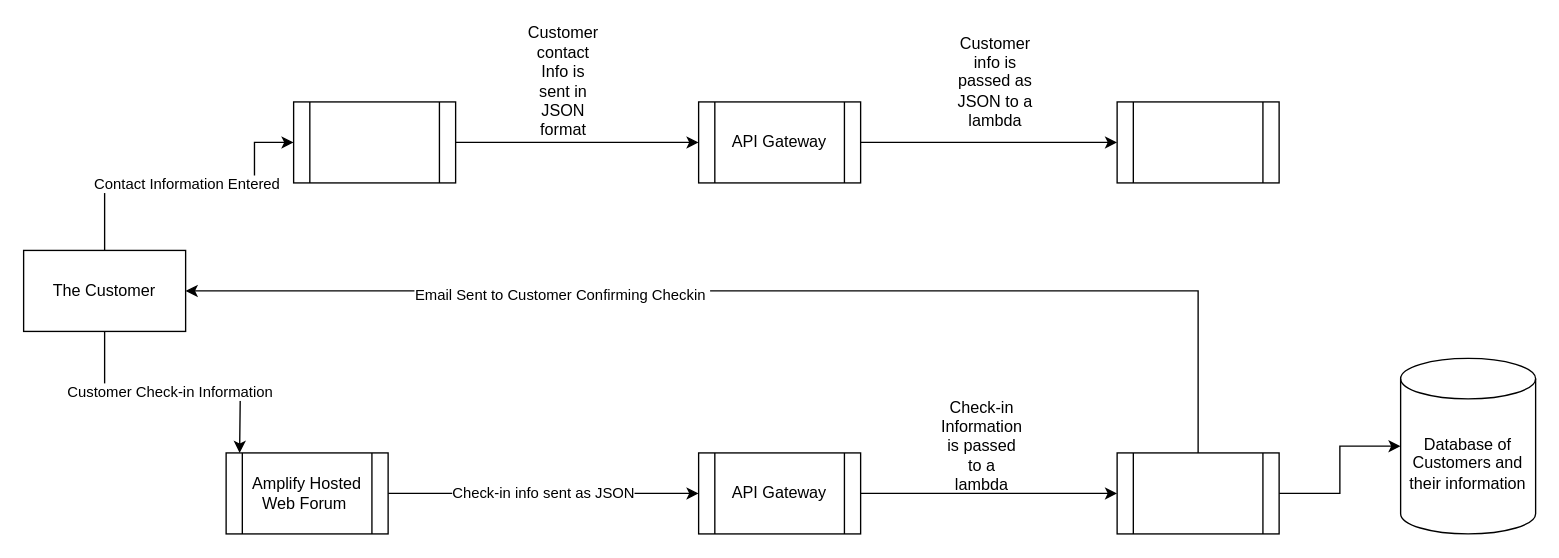
This 1559x558 diagram has some shape labels left out. Each missing label, with the centre of its shape:
"Lambda Updates the DB" belongs at point 1197,493.
"SES Lambda" belongs at point 1197,142.
"Static Website hosted by S3" belongs at point 374,142.
